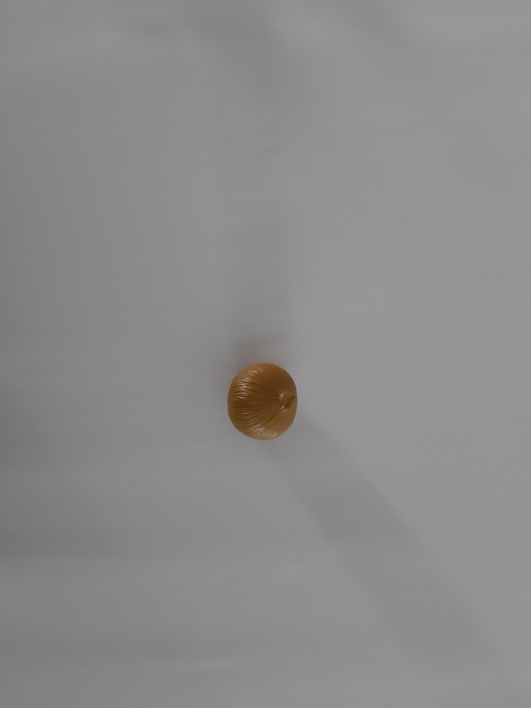onion: (211, 349, 309, 453)
